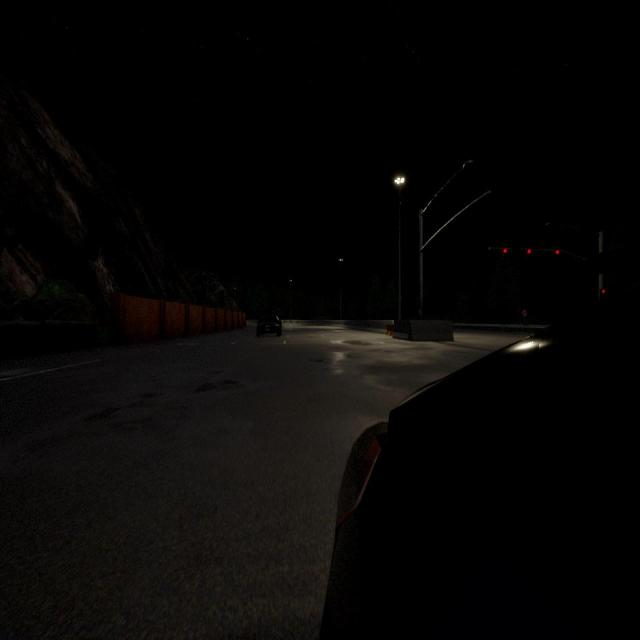Traffic_Signs: (522, 309, 527, 316)
Vehicle: (320, 289, 640, 637), (256, 314, 282, 336)
traffic_light: (600, 288, 605, 300), (503, 248, 508, 253), (527, 249, 531, 254), (556, 250, 560, 254)
